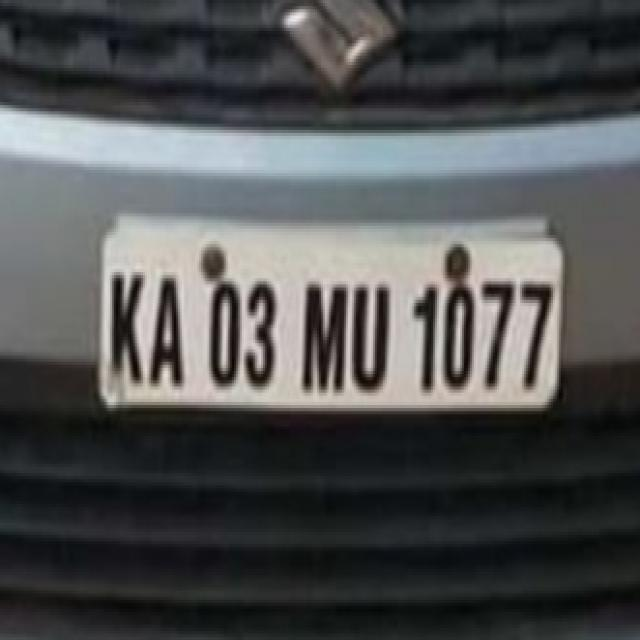0: (206, 273, 243, 395), (441, 271, 476, 396)
1: (411, 271, 438, 396)
3: (244, 274, 282, 404)
7: (476, 271, 514, 395), (520, 274, 556, 400)
A: (151, 268, 185, 394)
K: (106, 263, 146, 394)
M: (299, 268, 352, 404)
U: (350, 268, 392, 401)
